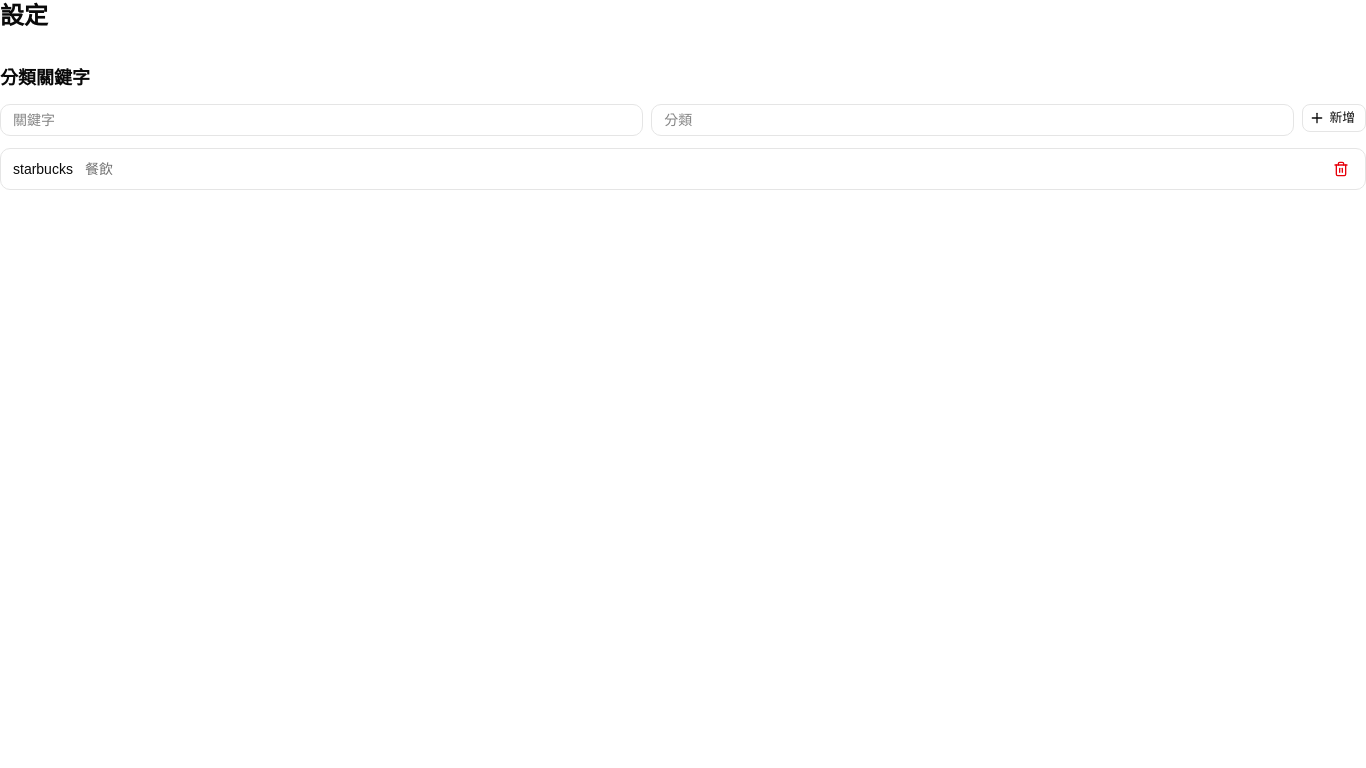
Test case: SettingsPage › shows error banner when category deletion fails
The image size is (1366, 768).
Check: the text "starbucks" is shown, box [13,159,73,179]
Click the button named "刪除 starbucks" at (1341, 169), box [1329,157,1353,181]
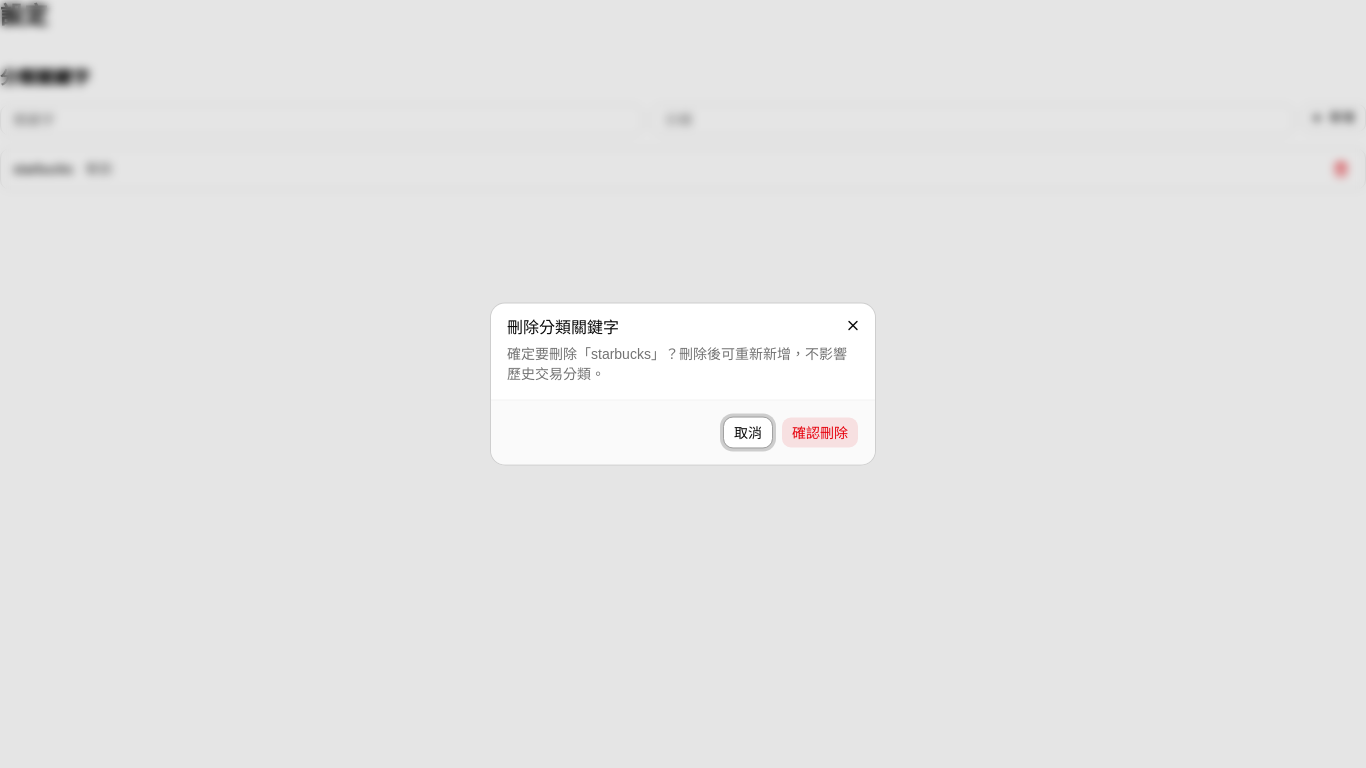
Check: the dialog is shown, box [491,304,875,464]
Click the button "確認刪除" at (820, 432), box [781,416,859,448]
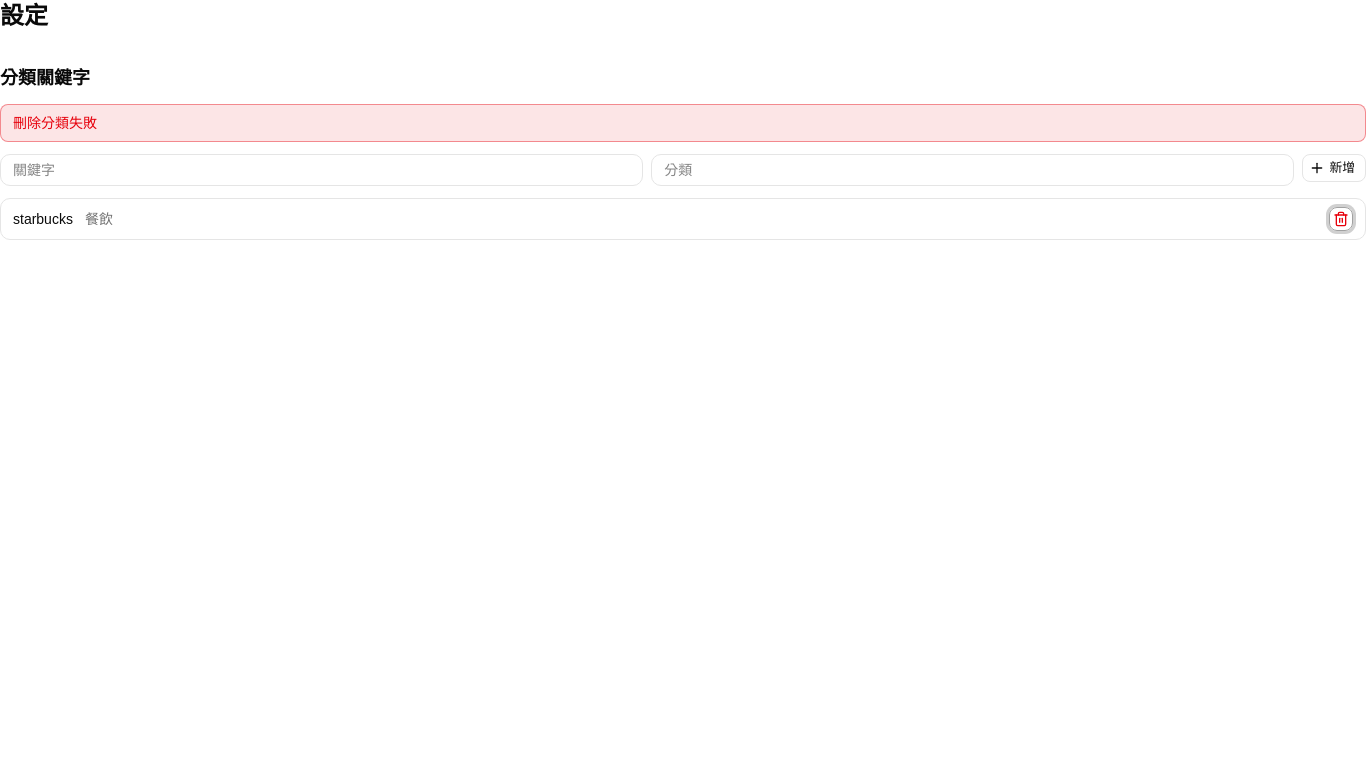
Check: the message reads "刪除分類失敗", box [13,115,97,131]
